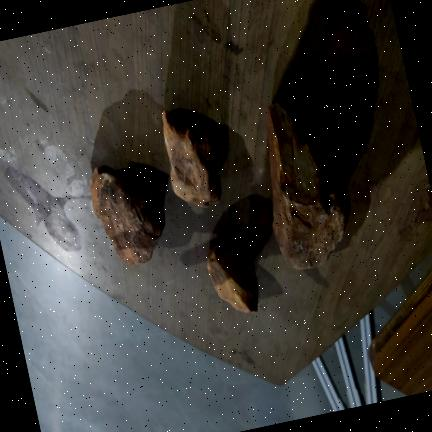Rocks: (268, 103, 350, 268), (91, 167, 165, 264), (162, 111, 221, 206), (207, 242, 258, 311)
